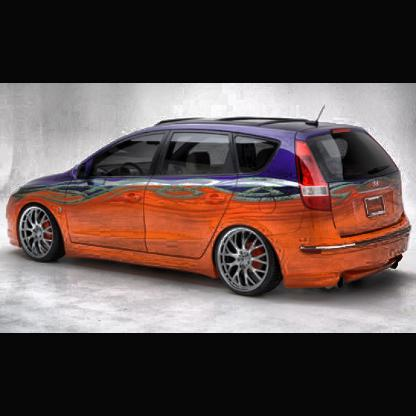Hyundai Elantra Touring Hatchback 2012: (8, 117, 413, 298)
